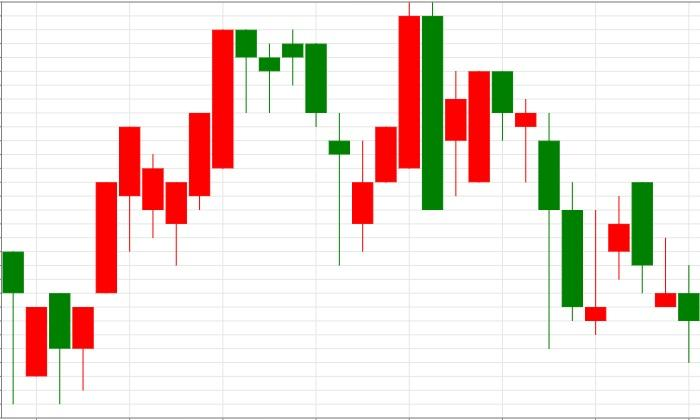bearish_engulfing_fall: (352, 2, 443, 252)
hanging_man_fall: (166, 29, 256, 265)
morning_star_rise: (492, 72, 630, 350)
